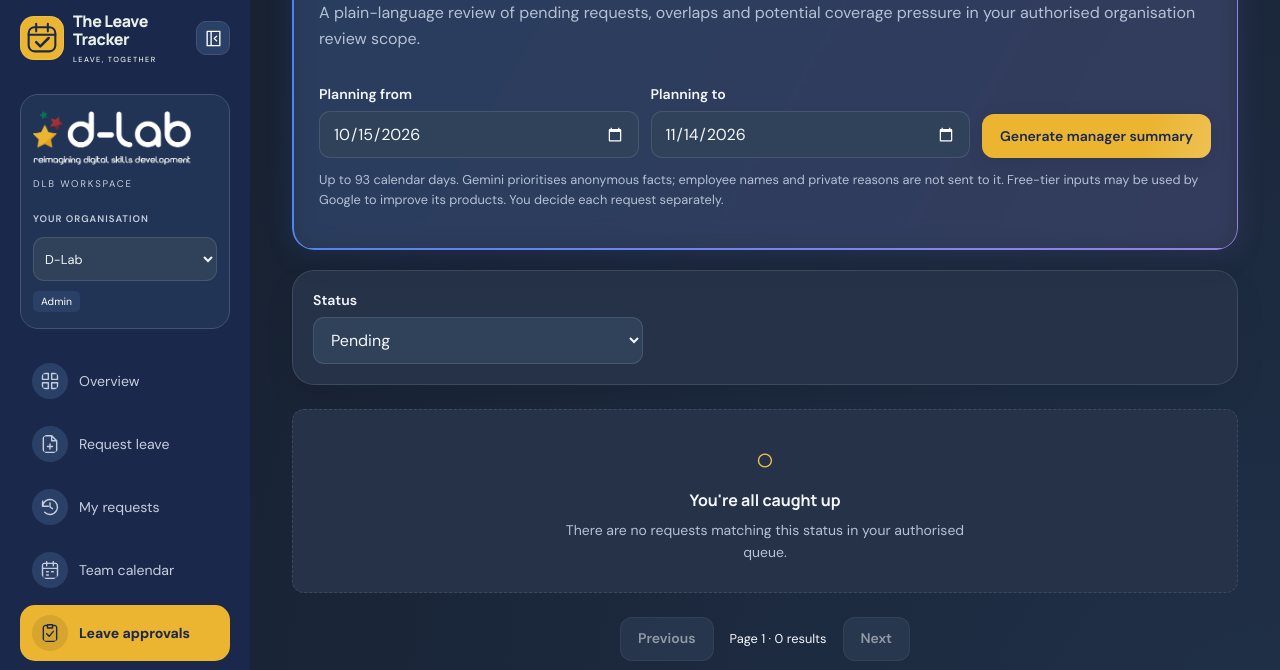
Test: Frontend integration flows › uses explicit approval status filters and resets pagination
(page scrolled)
Expected: the heading "You're all caught up" is shown, [689,489,841,511]
Select "Approved" in the dropdown labelled "Status" at (478, 340), box [313,317,643,364]
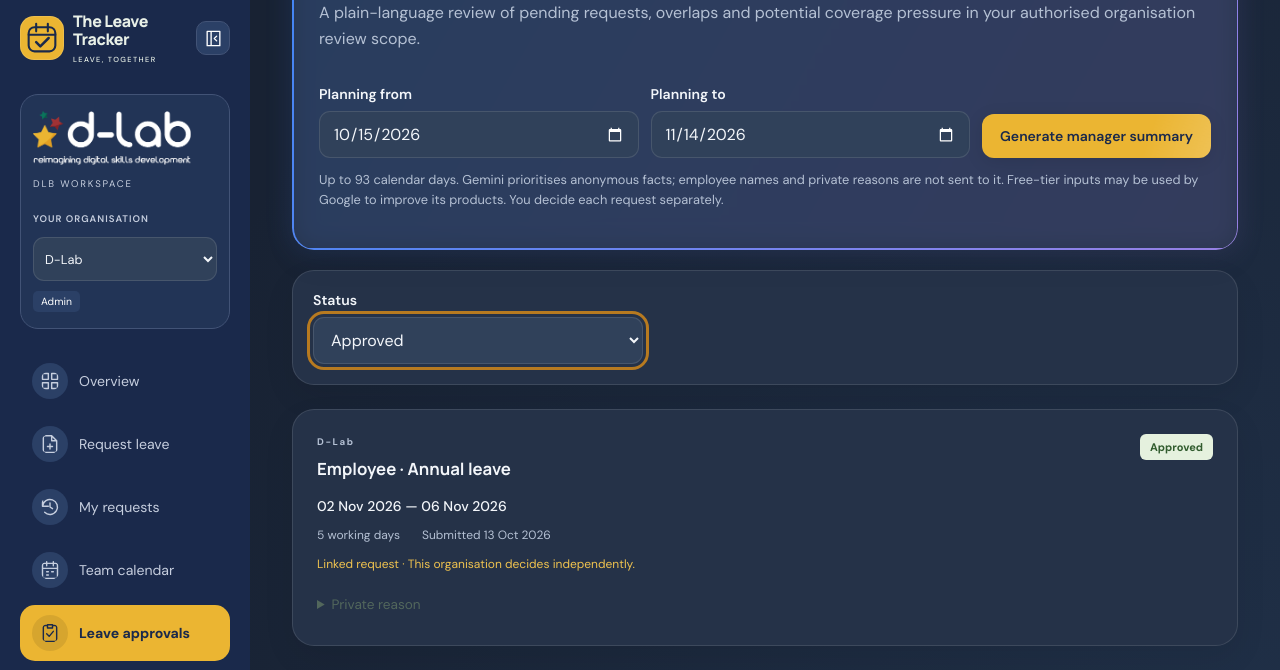
Result: the text "Approved" is shown at [1140,434,1213,460]
